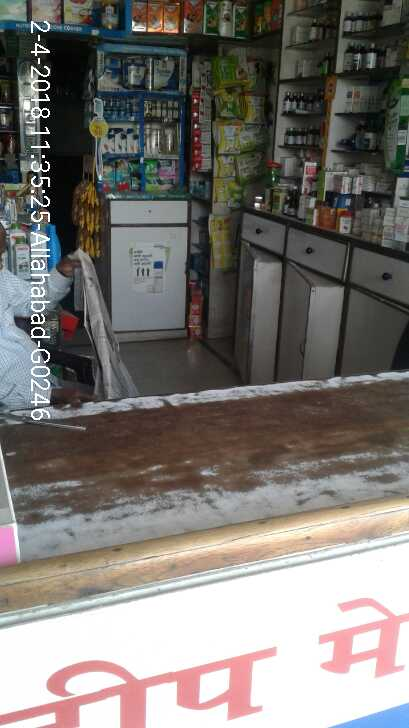vicks: (103, 97, 139, 117)
